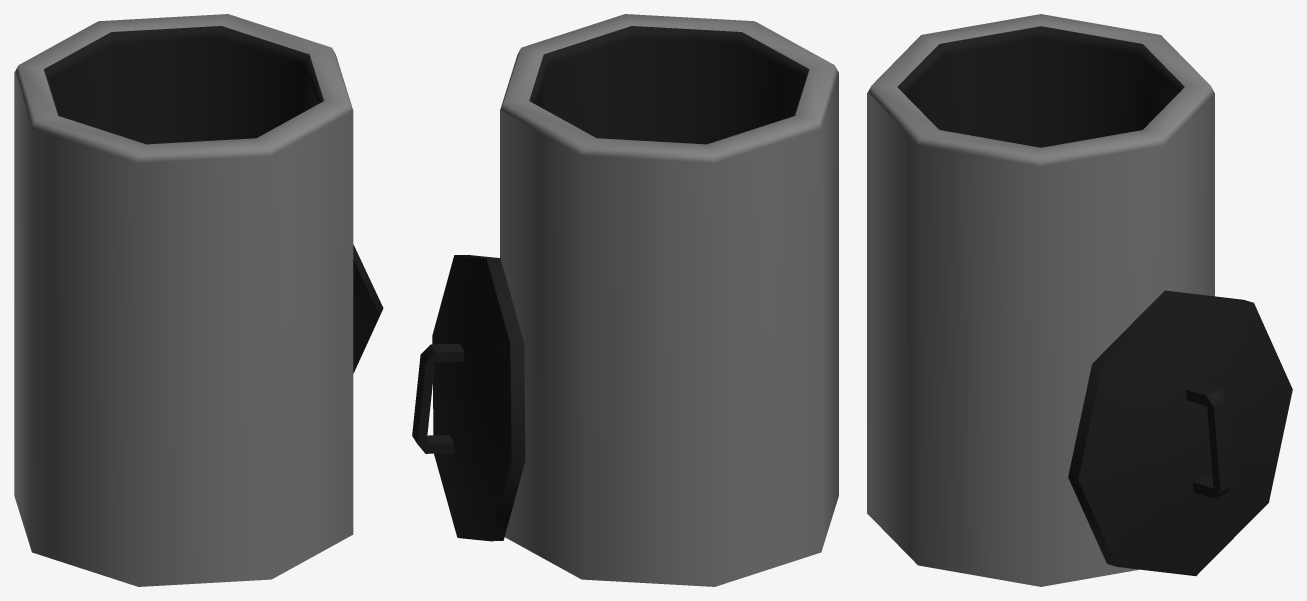
File: SM_RubbishBin.fbx
3 views of the same model, side by side, from view 1: azimuth 30°, elevation 25°; view 2: azimuth 150°, elevation 25°; view 3: azimuth 270°, elevation 25° (orthographic).
Parts seen in each view (by area): view 1: SM_RubbishBin; view 2: SM_RubbishBin; view 3: SM_RubbishBin.
Boxes of the visible parts, bbox=[...] form: SM_RubbishBin: bbox=[14, 14, 383, 586]; SM_RubbishBin: bbox=[412, 14, 838, 586]; SM_RubbishBin: bbox=[867, 14, 1292, 586].
Size of the model in its own units: 81.7 by 90.97 by 82.06.
